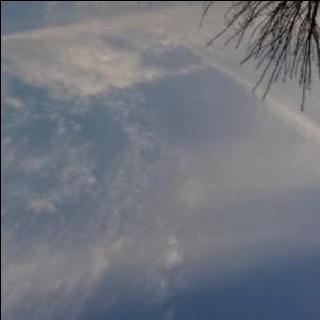Contrails: (0, 3, 320, 320)
